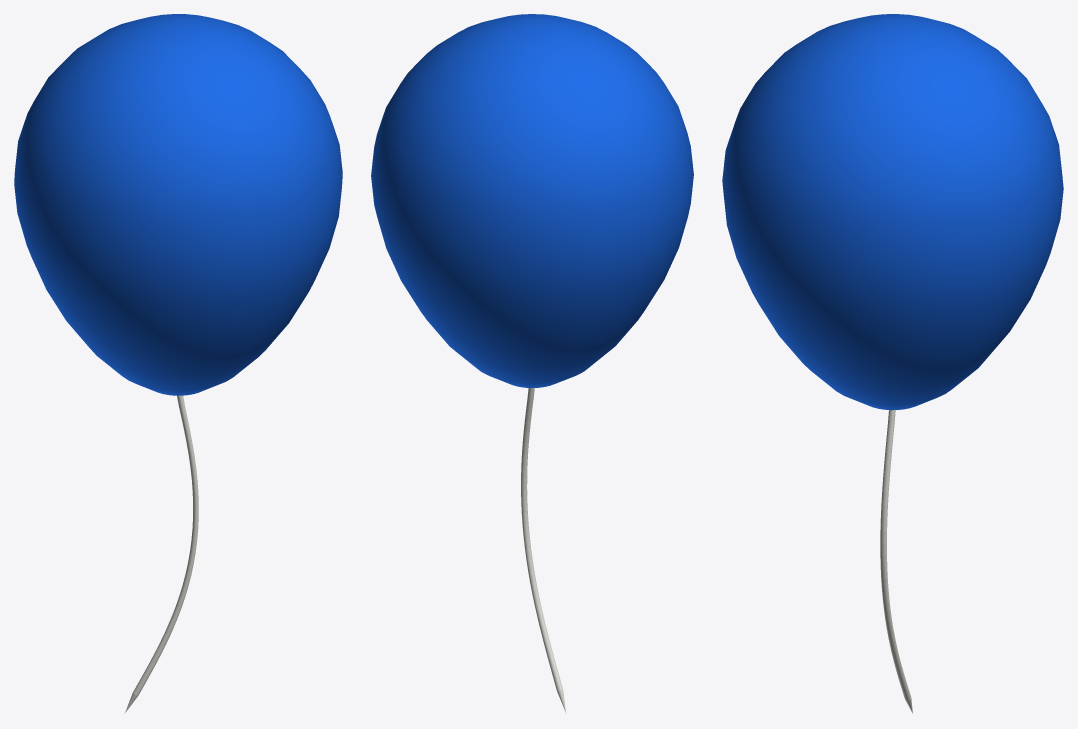
The model's file is BloonBlu.fbx.
3 renders of one model, left to right at view 1: azimuth 30°, elevation 25°; view 2: azimuth 150°, elevation 25°; view 3: azimuth 270°, elevation 25°, orthographic. The views are drawn at different scales.
Visible parts, largest first — view 1: bloon.001; view 2: bloon.001; view 3: bloon.001.
Boxes of the visible parts, x1=… form: bloon.001: x1=14, y1=14, x2=342, y2=713; bloon.001: x1=371, y1=14, x2=693, y2=713; bloon.001: x1=722, y1=14, x2=1063, y2=713.
Bounding box in the file's own units: 429 × 981 × 429.
